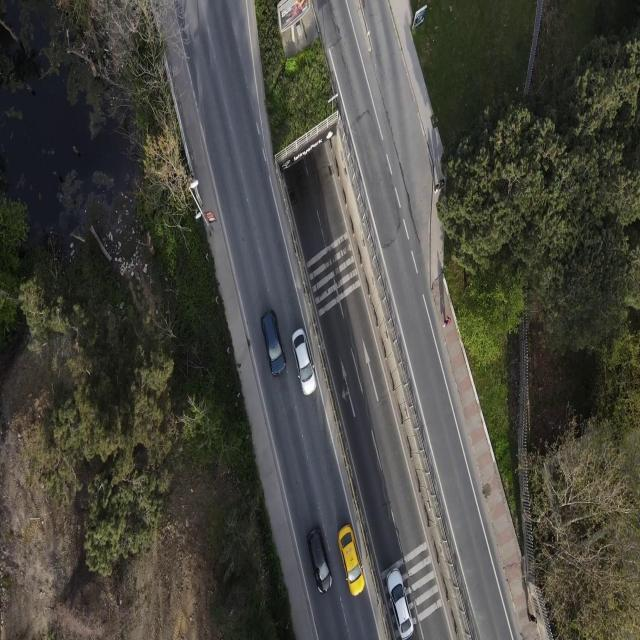p3rson: (442, 315, 452, 328), (528, 612, 537, 625)
